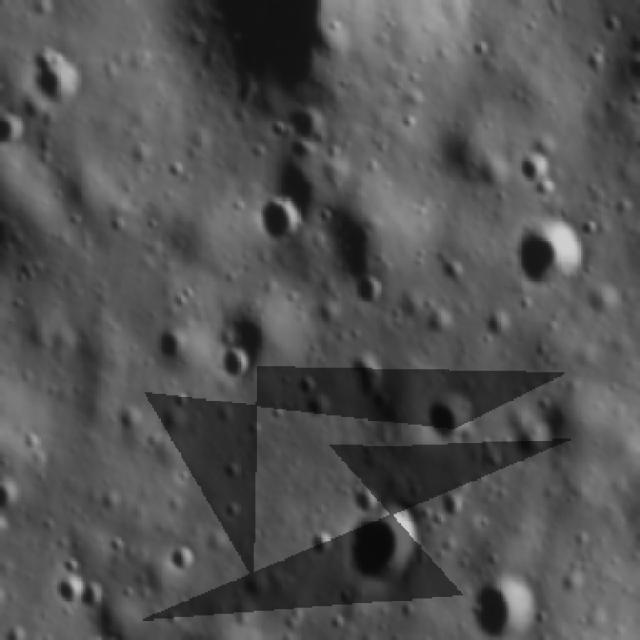crater: (336, 500, 429, 583), (16, 35, 102, 117), (506, 213, 582, 293), (468, 564, 540, 640), (244, 190, 314, 244), (422, 383, 480, 440), (50, 566, 108, 608), (160, 535, 197, 587), (215, 340, 258, 383), (0, 476, 23, 522), (65, 634, 127, 640), (635, 97, 640, 158)
